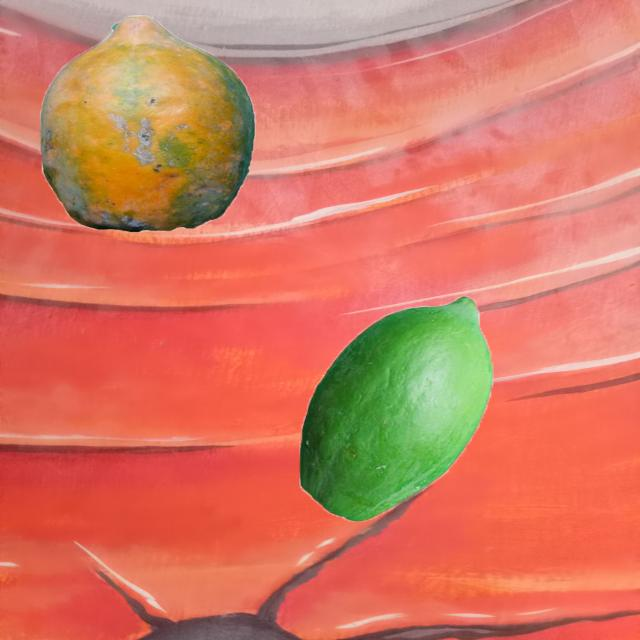Pepaya rippen: (27, 8, 263, 235)
Pepaya unrippen: (296, 289, 492, 528)
